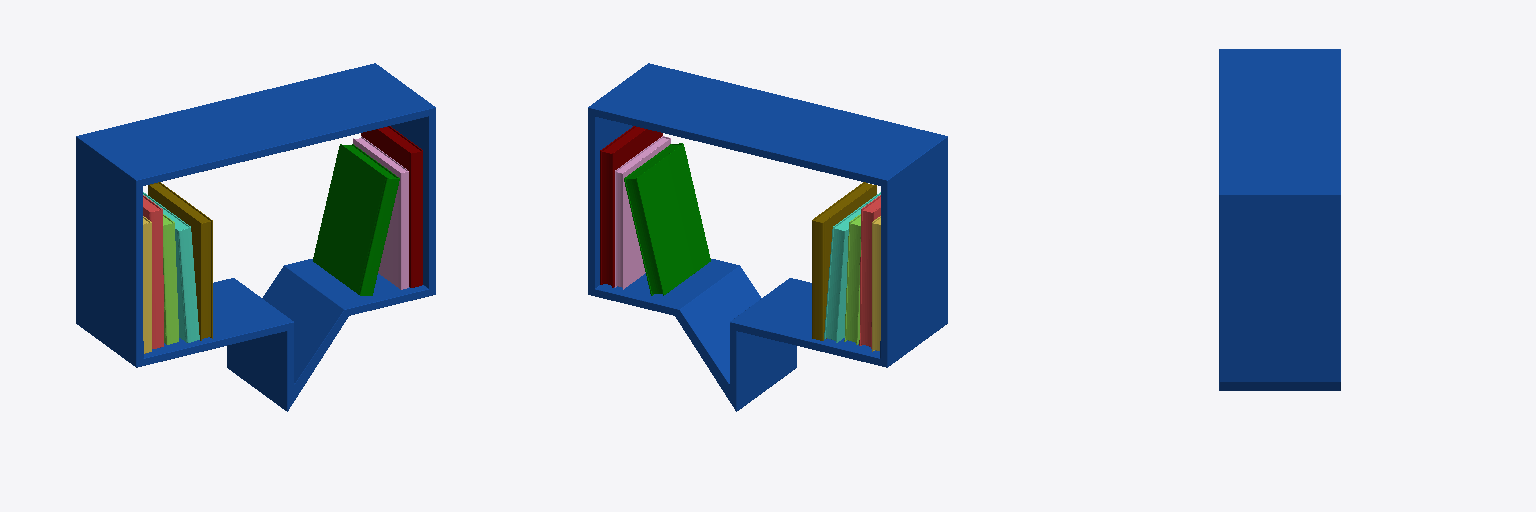
The model's file is bookshelf_comment.obj.
3 views of the same model, side by side, from view 1: azimuth 30°, elevation 25°; view 2: azimuth 150°, elevation 25°; view 3: azimuth 270°, elevation 25° (orthographic).
Parts seen in each view (by area): view 1: shelf, book08, book06, book07, book05, book04, book02, book03, book01; view 2: shelf, book08, book07, book06, book05, book04, book02, book03, book01; view 3: shelf.
Part boxes in pixels (x1,y1,x2,y2): shelf: (76,63,435,411); book08: (313,144,399,295); book06: (148,182,212,340); book07: (361,126,422,287); book05: (353,136,408,289); book04: (143,192,199,342); book02: (143,195,163,348); book03: (163,214,178,344); book01: (143,216,151,353); shelf: (588,63,947,411); book08: (624,143,710,295); book07: (600,126,662,287); book06: (812,182,876,340); book05: (615,136,670,289); book04: (824,192,880,342); book02: (859,195,880,348); book03: (844,214,860,344); book01: (872,216,880,351); shelf: (1219,49,1340,390).
Size of the model in its own units: 25.13 by 21.51 by 8.8.